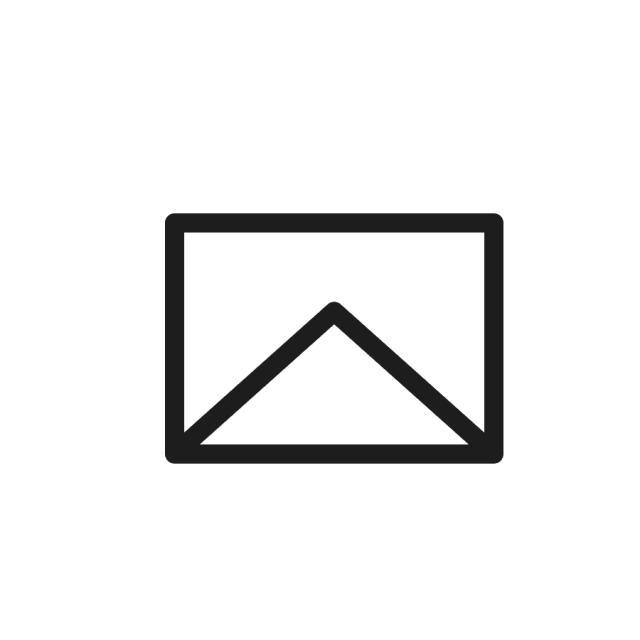letter: (158, 211, 503, 471)
